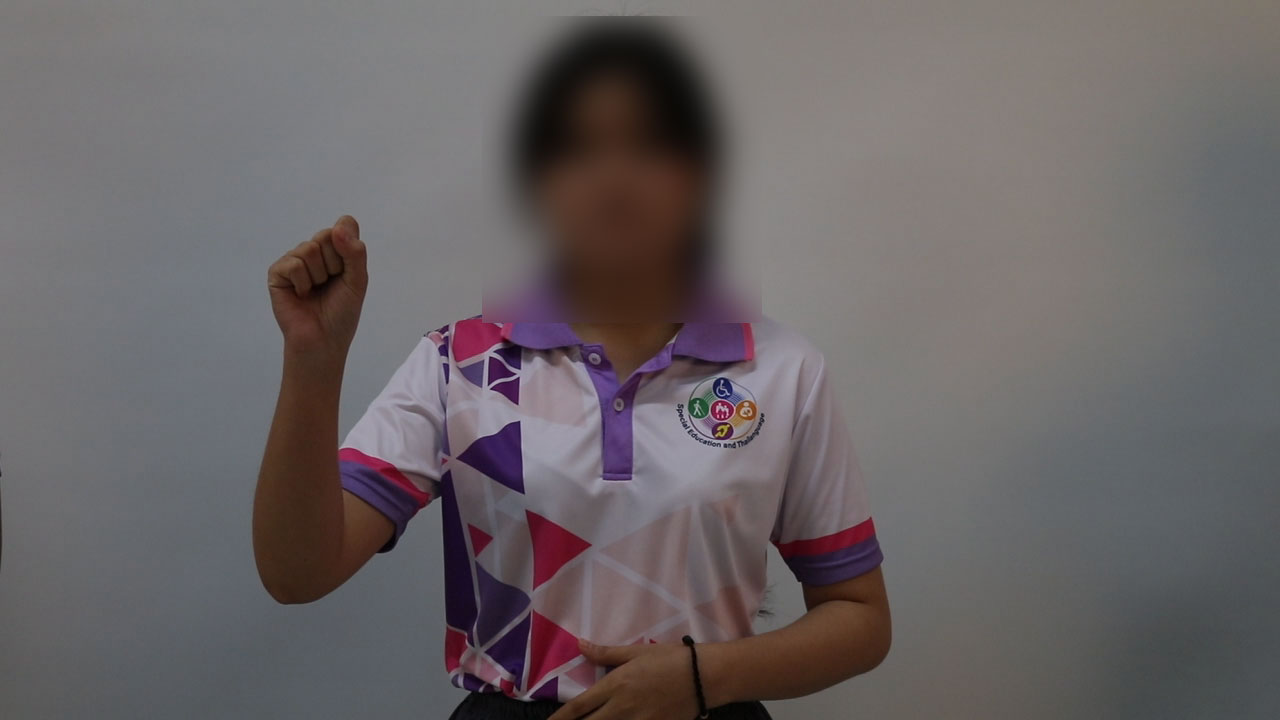sor: (249, 206, 380, 356)
